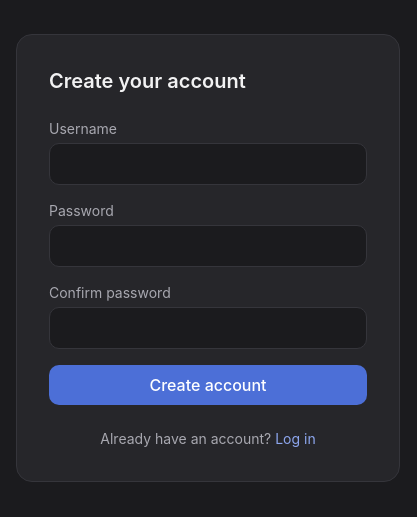
Test case: RegisterPage › shows the server error message on failure
Step 1. Type "kubo" into the field labelled "Username" → coordinates (208, 164), box [49, 143, 367, 185]
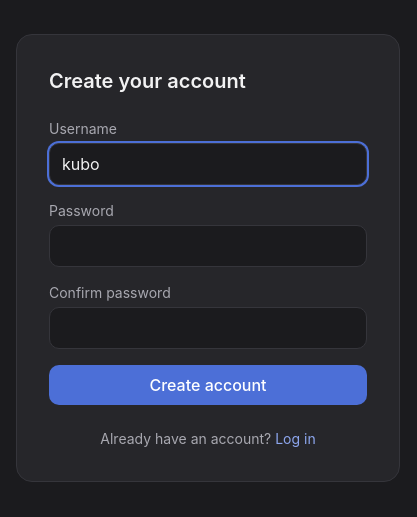
Step 2. Type "correct horse battery staple" into the password field labelled "Password" → coordinates (208, 246), box [49, 225, 367, 267]
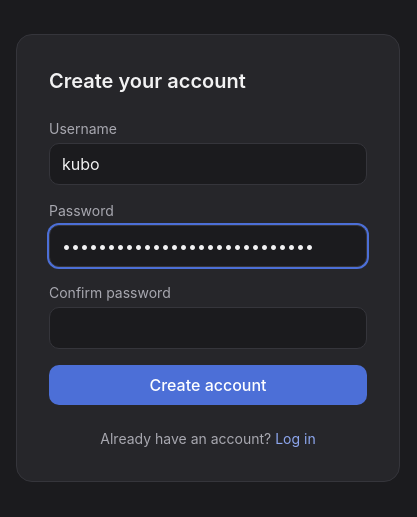
Step 3. Type "correct horse battery staple" into the password field labelled "Confirm password" → coordinates (208, 328), box [49, 307, 367, 349]
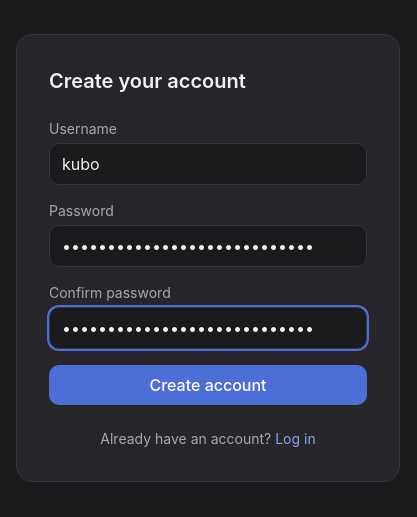
Step 4. Click the button "Create account" → coordinates (208, 385), box [49, 365, 367, 405]
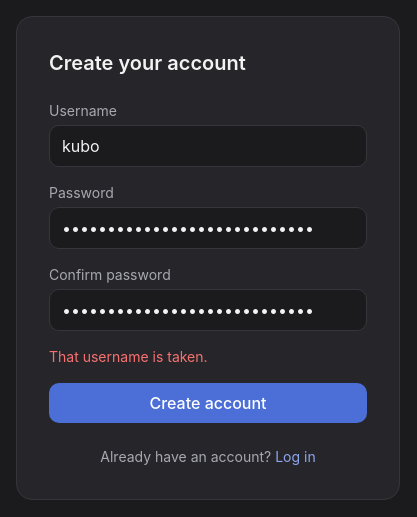
Now the message reads "That username is taken.", box [49, 348, 208, 365]
